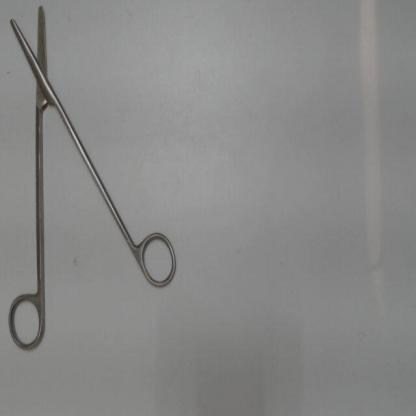9 Metzenbaum Scissors: (5, 3, 183, 356)
